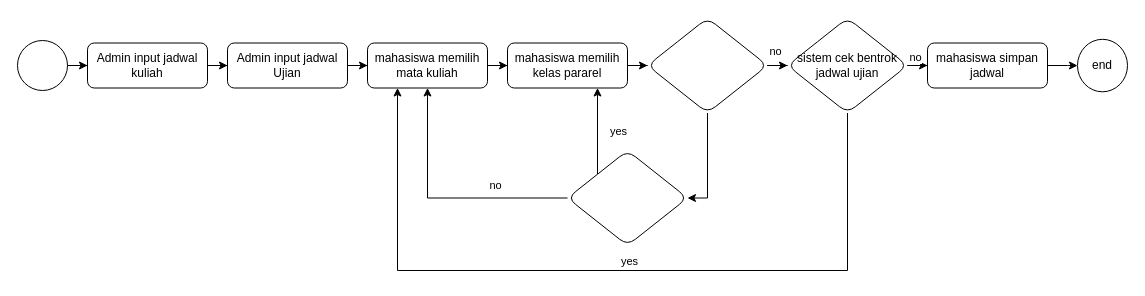
The diagram is 1145 pixels wide and 296 high, and some of its shapes have lost their labels. Each missing label, with the centre of its shape:
ada kelas pararel lain?: (x=627, y=198)
sistem cek bentrok jadwal kuliah: (x=707, y=65)
start: (x=42, y=65)
